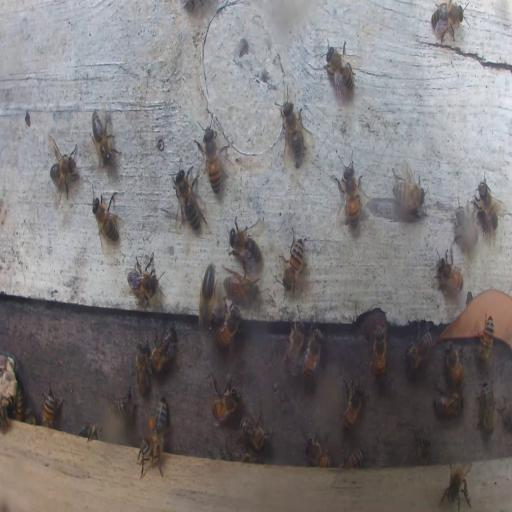nonpollenbee: (277, 87, 306, 163), (171, 168, 204, 233), (48, 137, 81, 200), (126, 252, 162, 305), (324, 40, 356, 98), (473, 172, 503, 232), (228, 219, 262, 269), (390, 165, 426, 212), (441, 460, 473, 512), (338, 156, 361, 228), (280, 231, 306, 294), (92, 193, 122, 246), (91, 109, 116, 168), (430, 1, 466, 41), (200, 126, 221, 192), (404, 322, 434, 368), (341, 378, 365, 434), (148, 325, 177, 371), (240, 412, 272, 452), (136, 434, 164, 478), (302, 326, 323, 384), (454, 204, 479, 252), (214, 304, 240, 348), (283, 321, 304, 375), (436, 252, 464, 292), (223, 273, 259, 303), (210, 384, 238, 420), (112, 386, 139, 422), (478, 380, 495, 436), (432, 390, 463, 419), (304, 434, 332, 466), (134, 341, 150, 396), (444, 344, 464, 388), (477, 315, 494, 363), (372, 325, 386, 378), (42, 388, 56, 429), (338, 448, 363, 469), (12, 386, 26, 423), (416, 433, 431, 465), (78, 422, 103, 441)
pollenbee: (196, 261, 219, 334), (149, 398, 168, 444)
